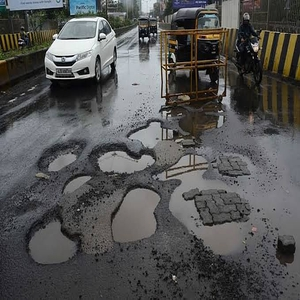pothole: (156, 150, 274, 254), (26, 203, 84, 265), (107, 182, 162, 246), (90, 142, 157, 176), (125, 118, 195, 149), (32, 138, 88, 175), (61, 173, 95, 197)
